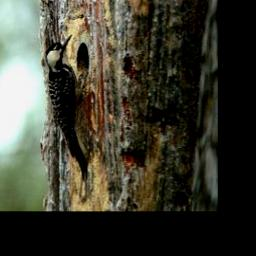Woodpecker: (39, 29, 98, 192)
